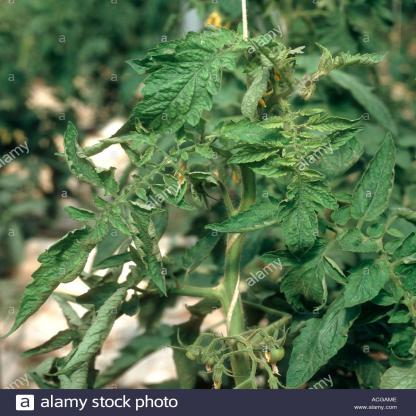Tomato leaf yellow virus: (124, 33, 252, 143), (23, 212, 114, 333), (279, 174, 339, 262), (301, 109, 363, 136)
